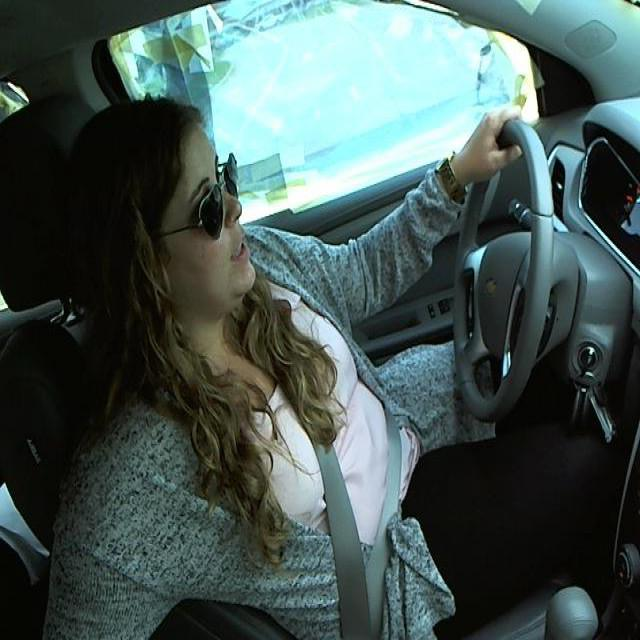seatbelt: (293, 394, 420, 638)
